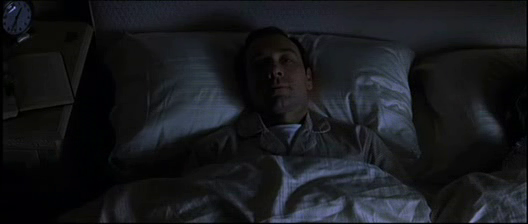face: (247, 44, 304, 116)
mcu: (1, 1, 528, 224)
person: (154, 25, 417, 222)
